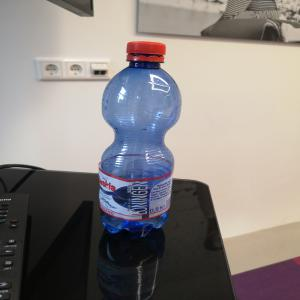Plastic-bottle: (98, 41, 185, 238)
